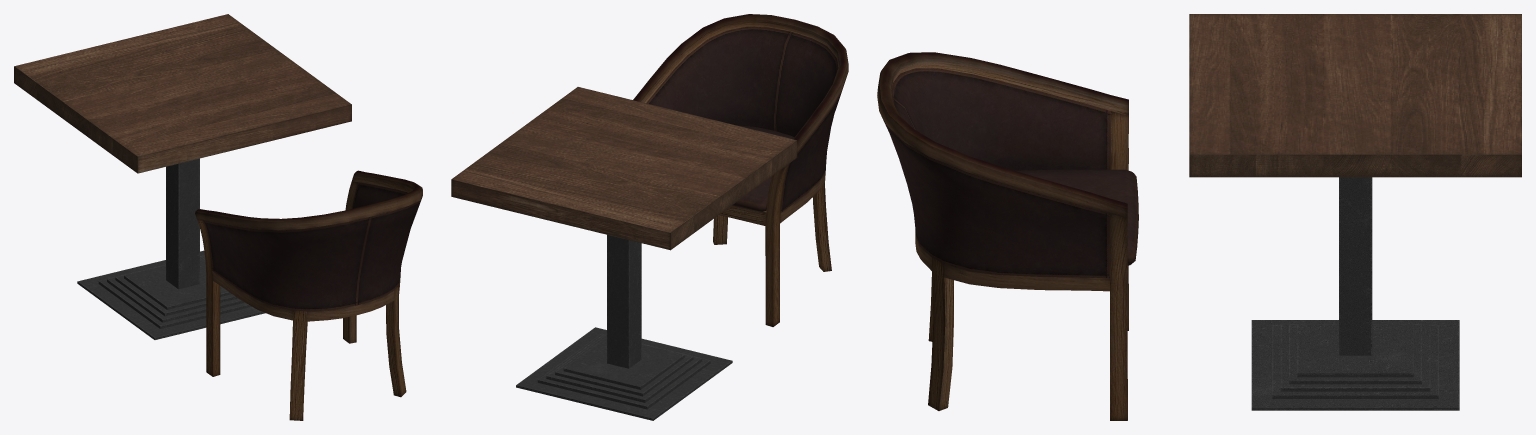
The model's file is table.fbx.
3 views of the same model, side by side, from view 1: azimuth 30°, elevation 25°; view 2: azimuth 150°, elevation 25°; view 3: azimuth 270°, elevation 25° (orthographic). The views are drawn at different scales.
Parts seen in each view (by area): view 1: re_tb_01 (1), re_chair (3); view 2: re_tb_01 (1), re_chair (3); view 3: re_tb_01 (1), re_chair (3).
Part boxes in pixels (bbox=[...]): re_tb_01 (1): bbox=[14, 14, 351, 339]; re_chair (3): bbox=[195, 170, 422, 420]; re_tb_01 (1): bbox=[451, 87, 797, 420]; re_chair (3): bbox=[633, 14, 848, 326]; re_tb_01 (1): bbox=[1189, 14, 1521, 410]; re_chair (3): bbox=[877, 52, 1138, 420].
Size of the model in its own units: 0.8 by 0.7702 by 1.55.
Materials: 2 (2 with a texture image).
